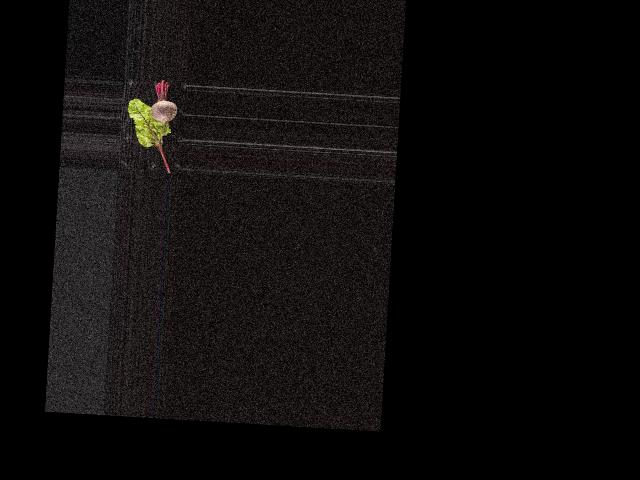beet: (148, 78, 179, 147)
